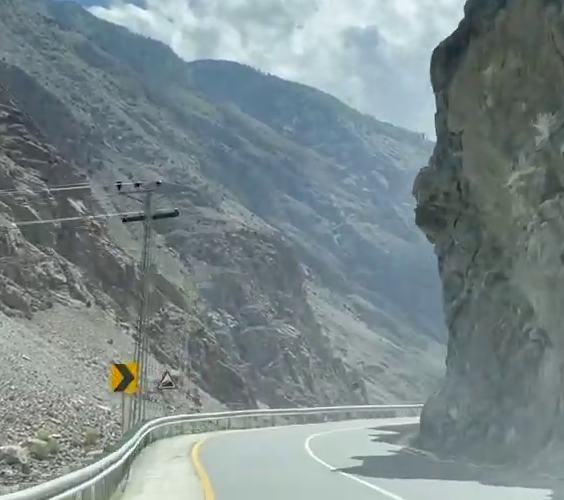stright: (109, 363, 467, 500)
